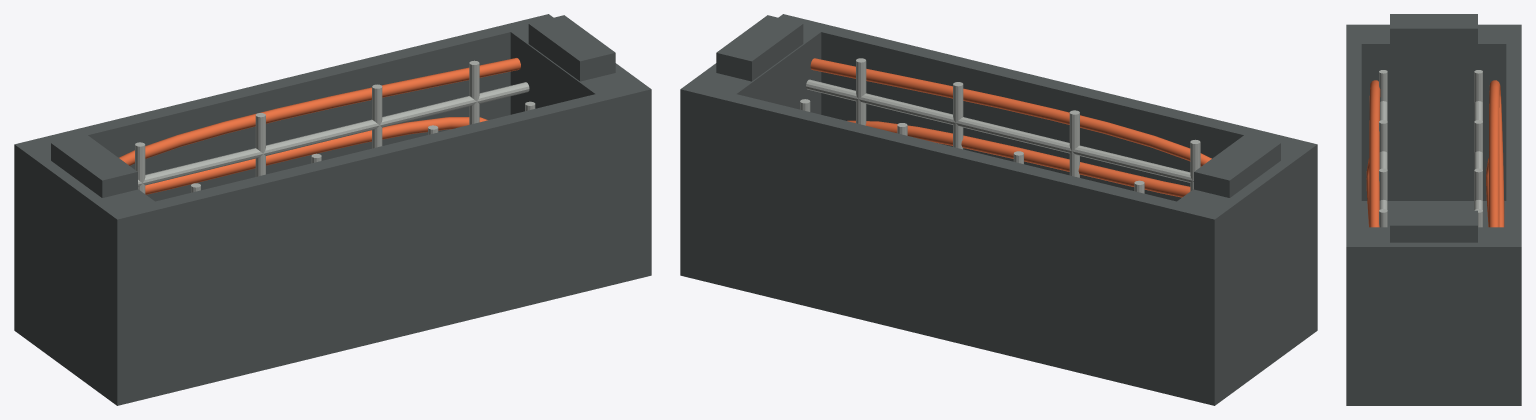
File: itemToaster.fbx
3 views of the same model, side by side, from view 1: azimuth 30°, elevation 25°; view 2: azimuth 150°, elevation 25°; view 3: azimuth 270°, elevation 25° (orthographic). The views are drawn at different scales.
Parts seen in each view (by area): view 1: Cube, BezierCurve.001, Cylinder.007, Cube.002, Cube.001, Cylinder.010, Cylinder.011, Cylinder.009; view 2: Cube, BezierCurve, Cylinder.004, Cube.002, Cube.001, Cylinder.002, Cylinder, Cylinder.001; view 3: Cube, Cube.002, Cube.001, BezierCurve.001, BezierCurve, Cylinder.007, Cylinder.004, Cylinder.010, Cylinder.009, Cylinder.008, Cylinder.001, Cylinder.002 (+1 smaller).
Boxes of the visible parts, x1=… form: Cube: x1=14, y1=14, x2=651, y2=405; BezierCurve.001: x1=119, y1=58, x2=520, y2=194; Cylinder.007: x1=138, y1=82, x2=529, y2=186; Cube.002: x1=528, y1=15, x2=615, y2=81; Cube.001: x1=51, y1=134, x2=137, y2=197; Cylinder.010: x1=372, y1=84, x2=382, y2=148; Cylinder.011: x1=469, y1=60, x2=479, y2=124; Cylinder.009: x1=255, y1=113, x2=265, y2=176; Cube: x1=680, y1=14, x2=1317, y2=405; BezierCurve: x1=810, y1=58, x2=1211, y2=197; Cylinder.004: x1=806, y1=79, x2=1193, y2=182; Cube.002: x1=716, y1=15, x2=803, y2=81; Cube.001: x1=1194, y1=134, x2=1280, y2=197; Cylinder.002: x1=1069, y1=110, x2=1079, y2=177; Cylinder: x1=856, y1=58, x2=866, y2=125; Cylinder.001: x1=953, y1=82, x2=963, y2=149; Cube: x1=1346, y1=24, x2=1521, y2=405; Cube.002: x1=1390, y1=210, x2=1477, y2=242; Cube.001: x1=1390, y1=14, x2=1477, y2=43; BezierCurve.001: x1=1486, y1=80, x2=1504, y2=227; BezierCurve: x1=1366, y1=80, x2=1380, y2=227; Cylinder.007: x1=1474, y1=101, x2=1482, y2=210; Cylinder.004: x1=1379, y1=101, x2=1387, y2=209; Cylinder.010: x1=1474, y1=168, x2=1482, y2=201; Cylinder.009: x1=1474, y1=120, x2=1482, y2=152; Cylinder.008: x1=1474, y1=70, x2=1482, y2=102; Cylinder.001: x1=1379, y1=168, x2=1387, y2=200; Cylinder.002: x1=1379, y1=120, x2=1387, y2=152.
Size of the model in its own units: 600 by 228 by 200.
